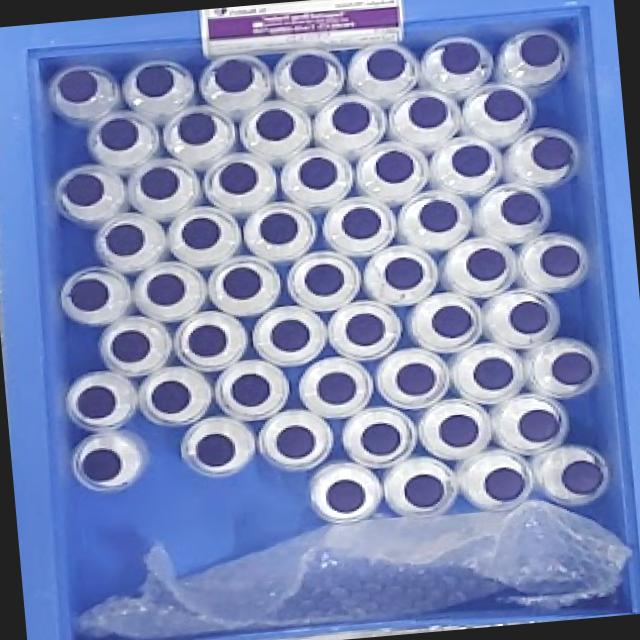vials: (402, 473, 446, 510), (436, 413, 480, 447), (561, 460, 603, 494), (57, 69, 98, 103), (275, 425, 316, 459), (484, 467, 525, 501), (150, 379, 191, 413), (483, 88, 525, 121), (500, 191, 542, 224), (465, 247, 507, 280), (62, 173, 104, 206), (359, 422, 401, 455), (195, 433, 235, 467), (519, 33, 560, 66), (531, 136, 572, 169), (341, 206, 382, 239), (68, 278, 109, 311), (431, 305, 473, 337), (518, 409, 560, 441), (440, 41, 480, 74), (473, 357, 513, 390), (222, 266, 262, 299), (345, 312, 385, 345), (76, 385, 116, 418), (540, 244, 581, 276), (551, 352, 592, 384), (509, 300, 548, 333), (375, 150, 414, 183), (331, 101, 370, 134), (214, 59, 253, 92), (177, 112, 216, 145), (218, 161, 257, 194), (419, 199, 458, 232), (384, 256, 423, 289), (146, 273, 185, 306), (231, 373, 270, 406), (326, 479, 365, 512), (451, 144, 491, 176), (98, 118, 138, 150), (298, 157, 338, 189), (304, 263, 344, 295), (181, 217, 221, 249), (187, 324, 227, 356), (81, 449, 121, 481), (255, 108, 294, 140), (259, 212, 298, 244), (270, 319, 309, 351), (111, 330, 150, 362), (317, 372, 356, 404), (289, 54, 327, 86), (140, 167, 179, 198), (105, 224, 144, 255), (396, 363, 435, 394), (366, 49, 406, 79), (409, 96, 447, 127), (135, 65, 173, 96)
